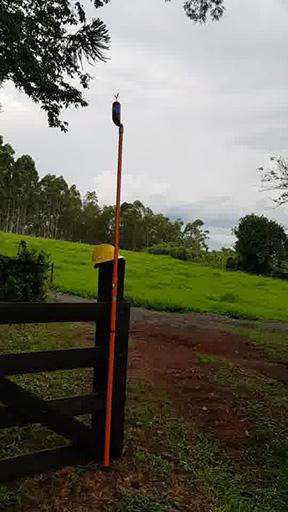Detector_Tensao_Contato: (110, 91, 122, 126)
Vara_Manobra: (103, 126, 125, 467)
